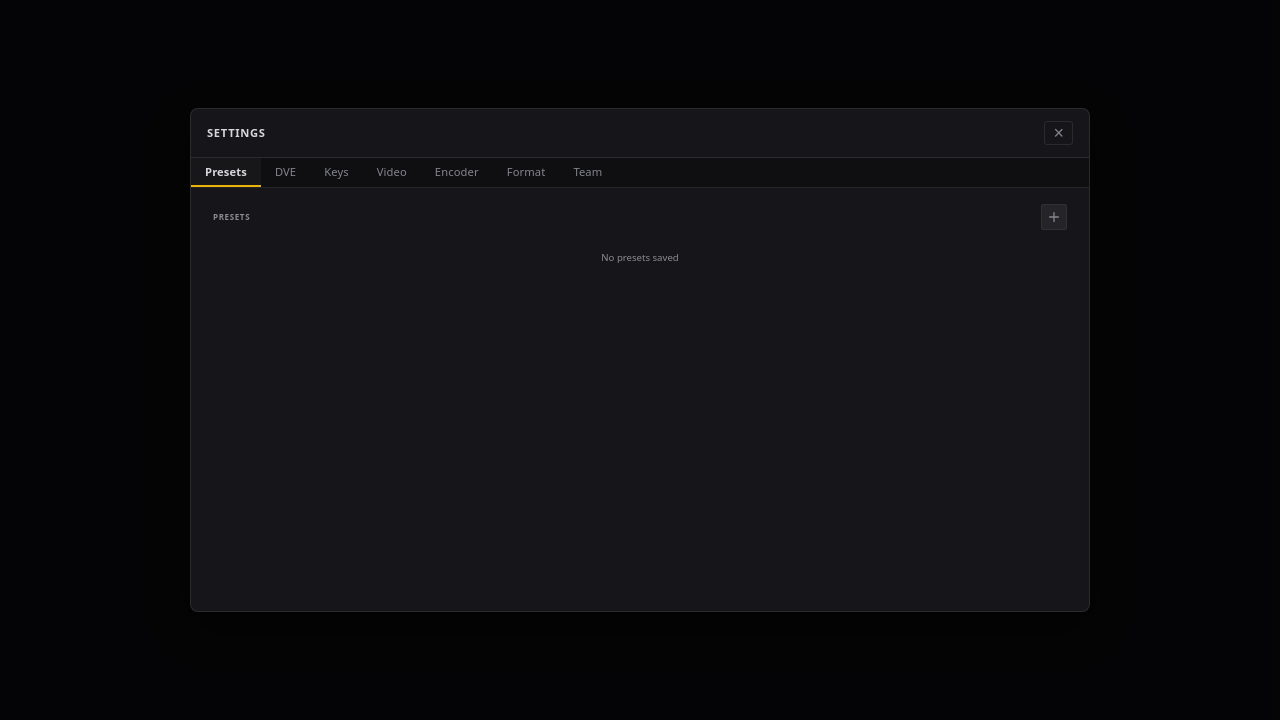
Test case: OASettingsModal › Keys tab shows redirect message
Click the tab "Keys" at [336, 172], box [310,158,363,187]
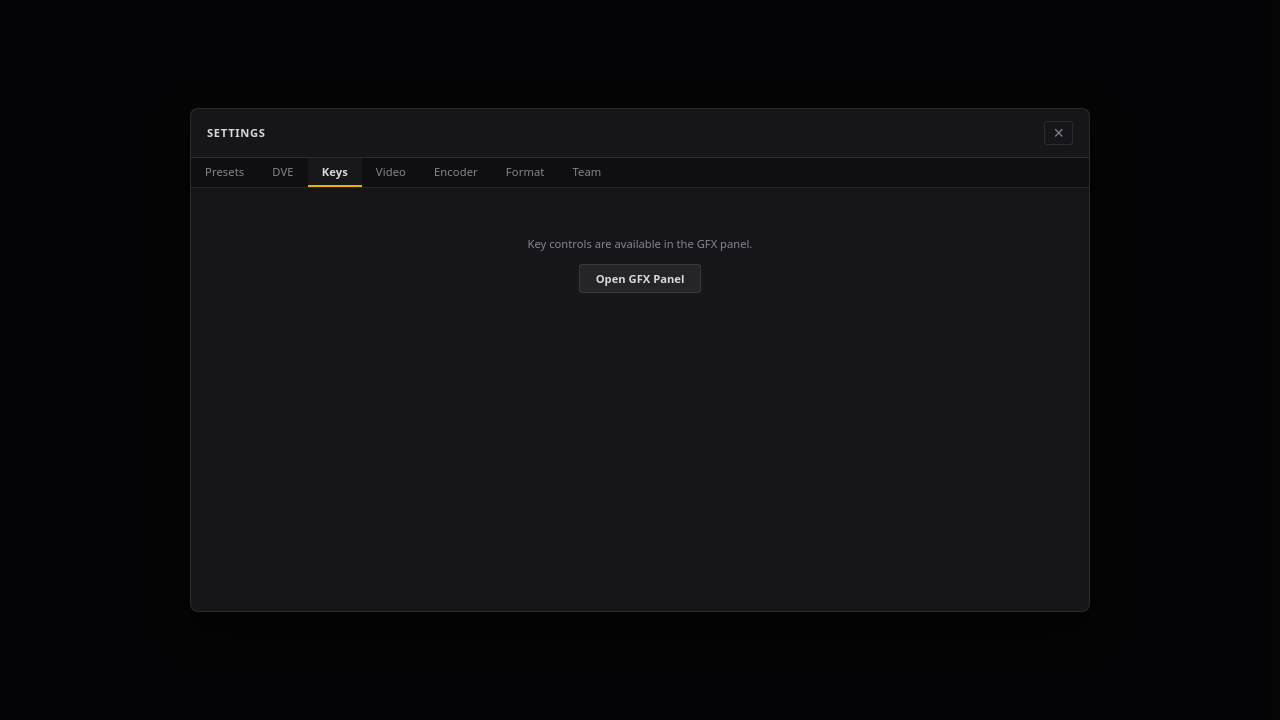
expect the text "Key controls are available in the GFX panel." is shown: met, box [528,236,752,252]
expect the button "Open GFX Panel" is shown: met, box [579,264,701,293]
